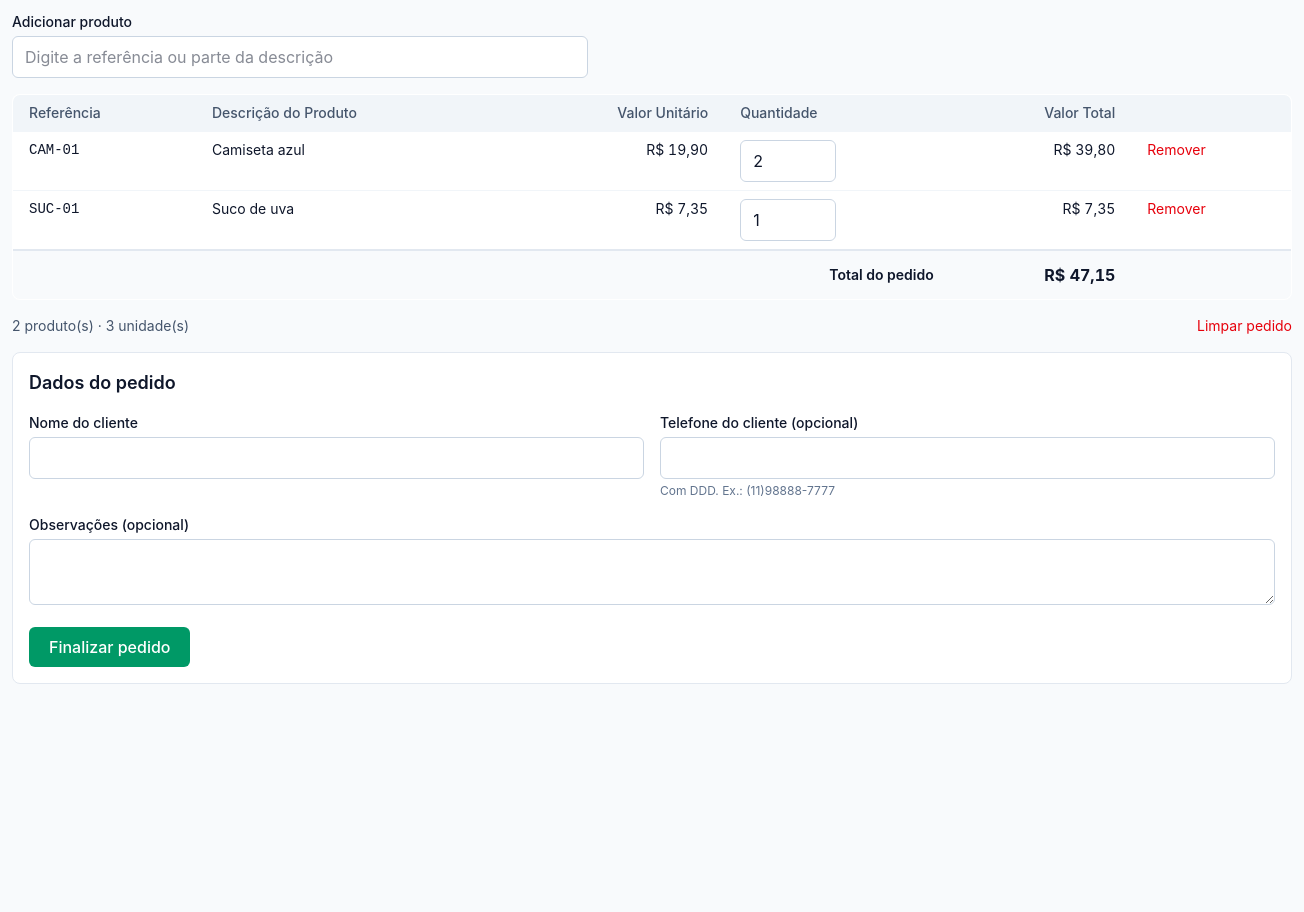
Scenario: edição e cálculo automático › quantidade inválida : avisa, mostra '—' e fica fora do total
The width and height of the screenshot is (1304, 912).
Clear the field named "Quantidade de CAM-01" at (788, 161), box [740,140,836,182]
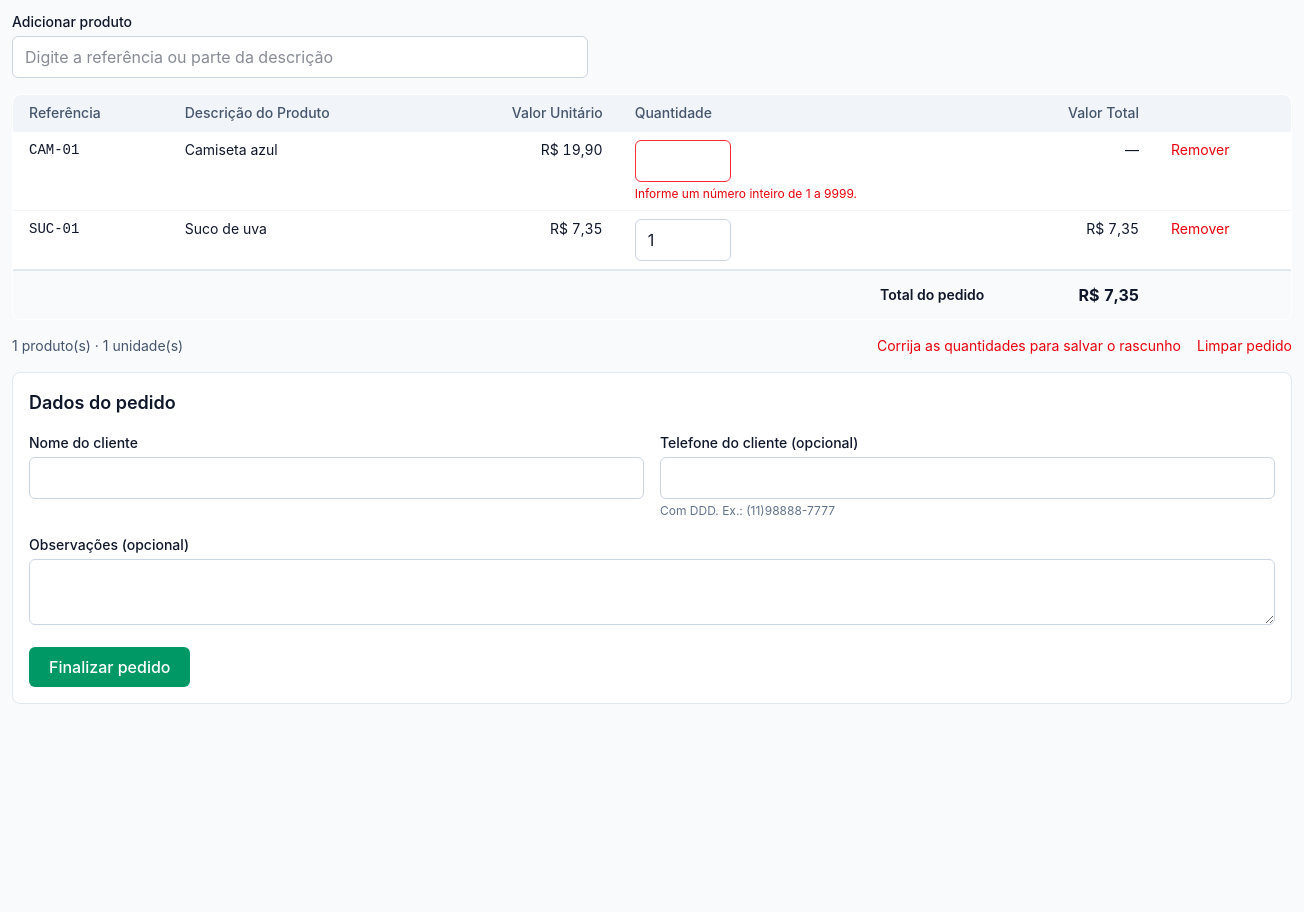
Now the message "Informe um número inteiro de 1 a 9999." is shown, box [635,186,857,201]
Now the cell with test id "line-total" reads "—", box [1125,141,1139,158]
Now the message with test id "save-status" reads "Corrija as quantidades para salvar o rascunho", box [877,337,1181,354]
